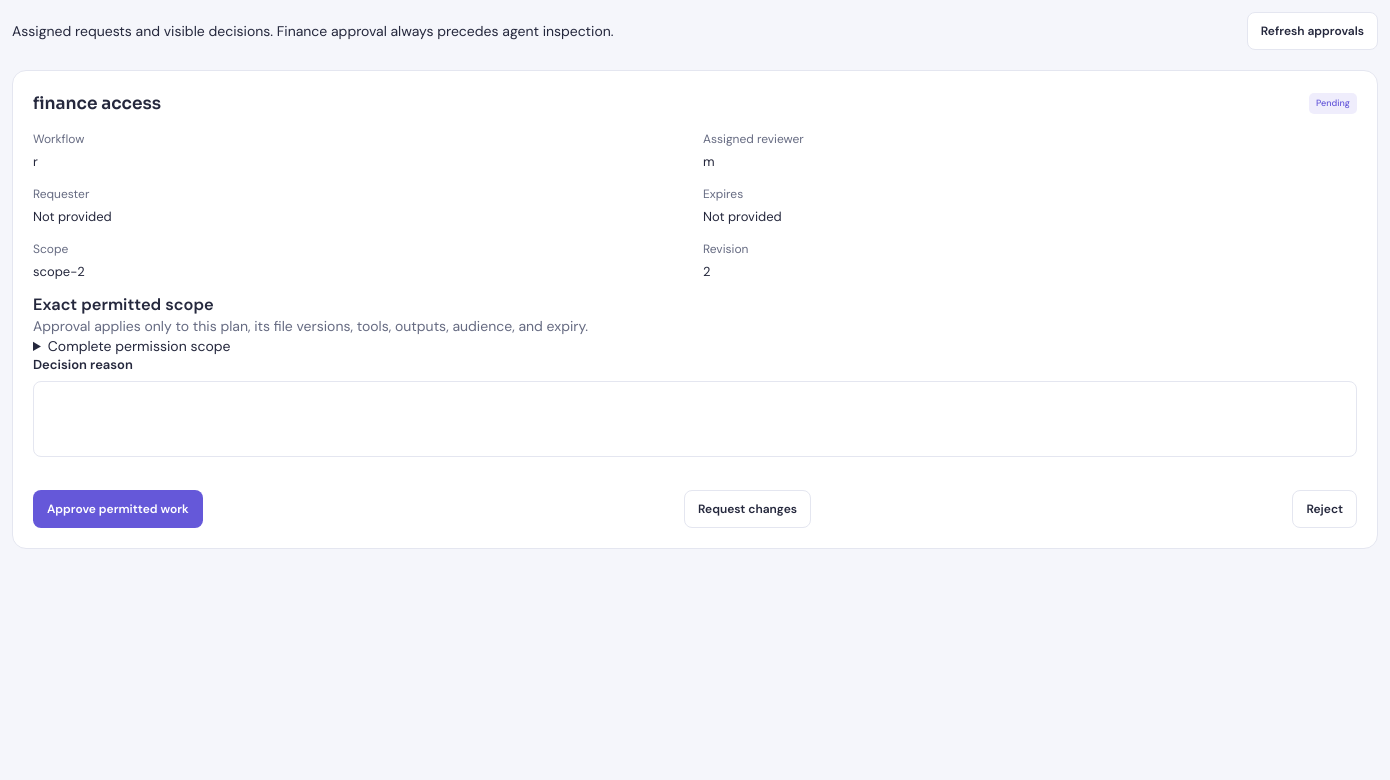
Test case: workflow interactions › refreshes a stale approval while preserving decision reason
Click the text box labelled "Decision reason".
click(695, 419)  # box x1=33 y1=381 x2=1357 y2=457
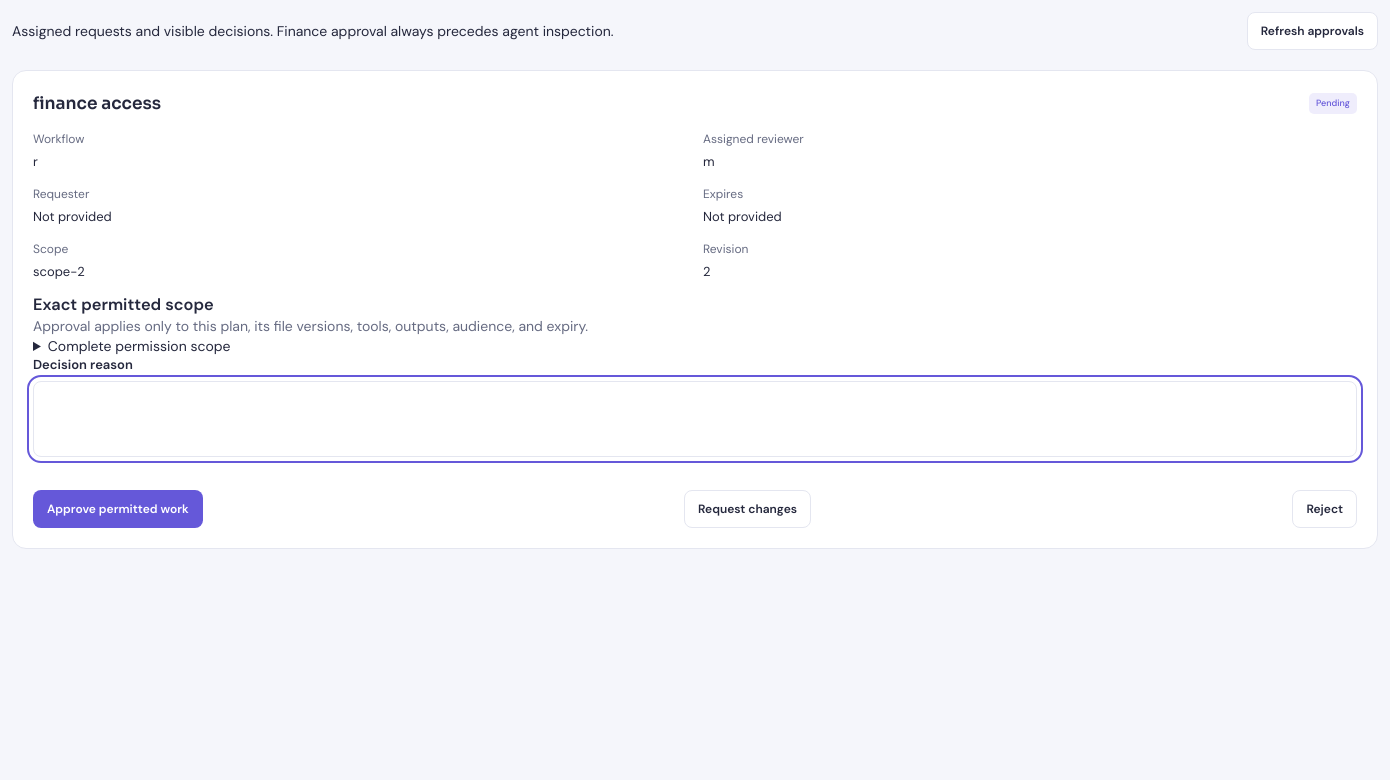
Type keys "Please correct the invoice"
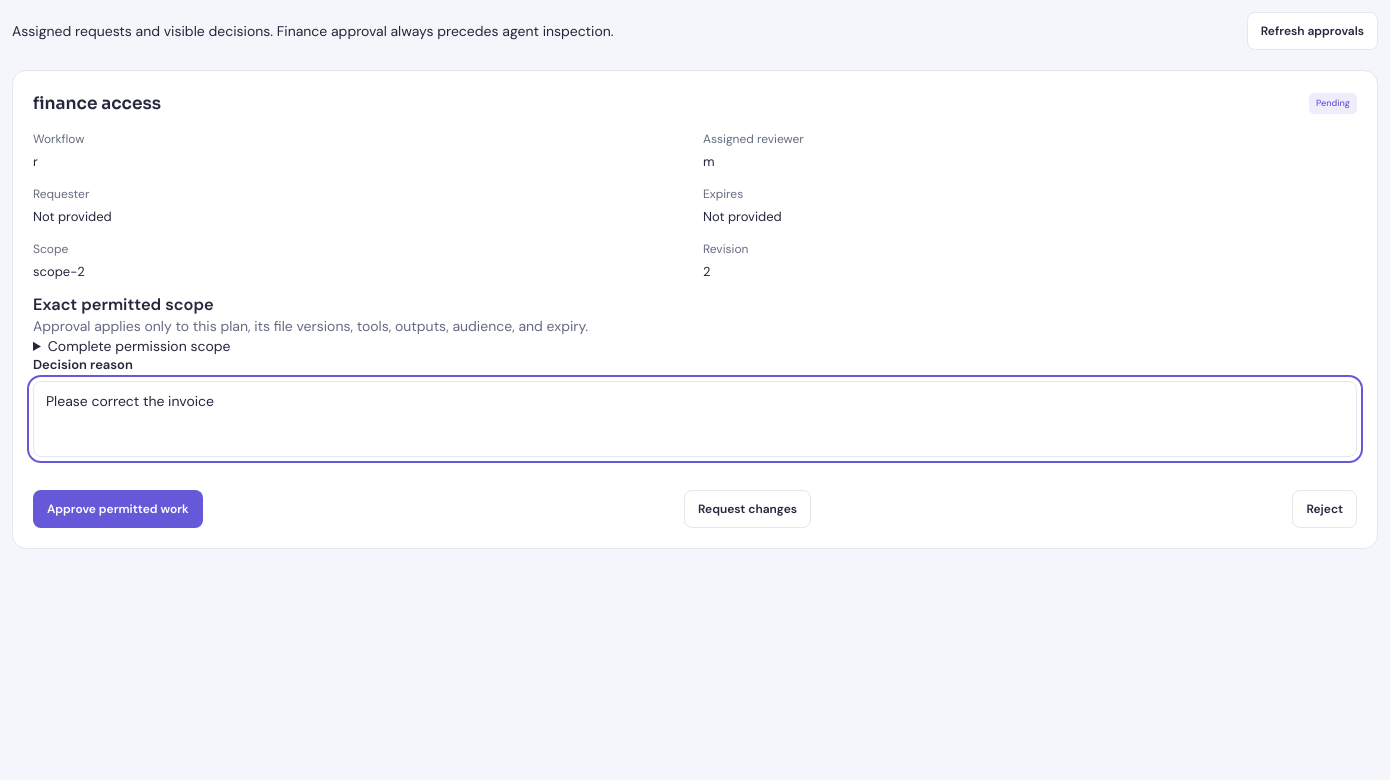
Click the button "Request changes".
click(748, 509)  # box x1=684 y1=490 x2=811 y2=528
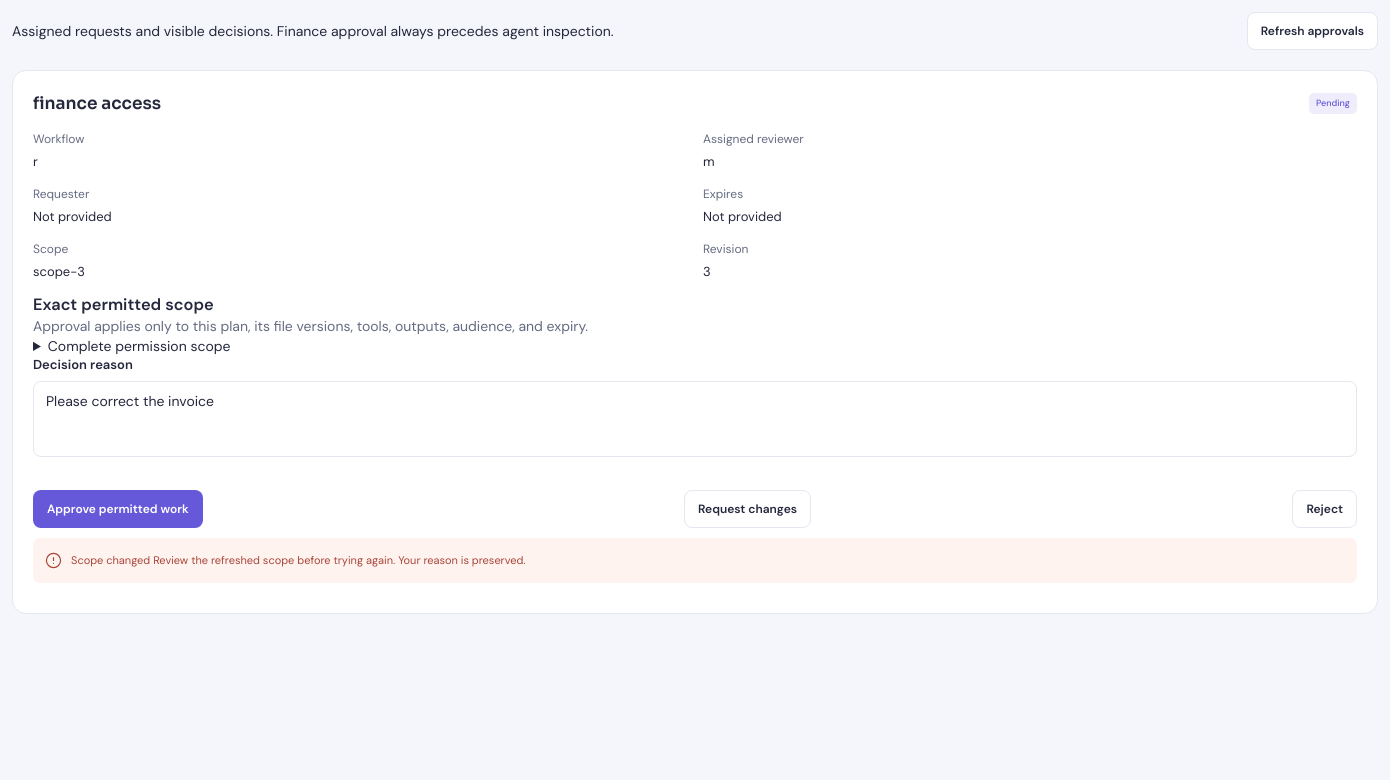
Expected: the text box labelled "Decision reason" holds "Please correct the invoice", x1=33 y1=381 x2=1357 y2=457
Expected: the text "Scope changed" is shown, x1=71 y1=553 x2=526 y2=567
